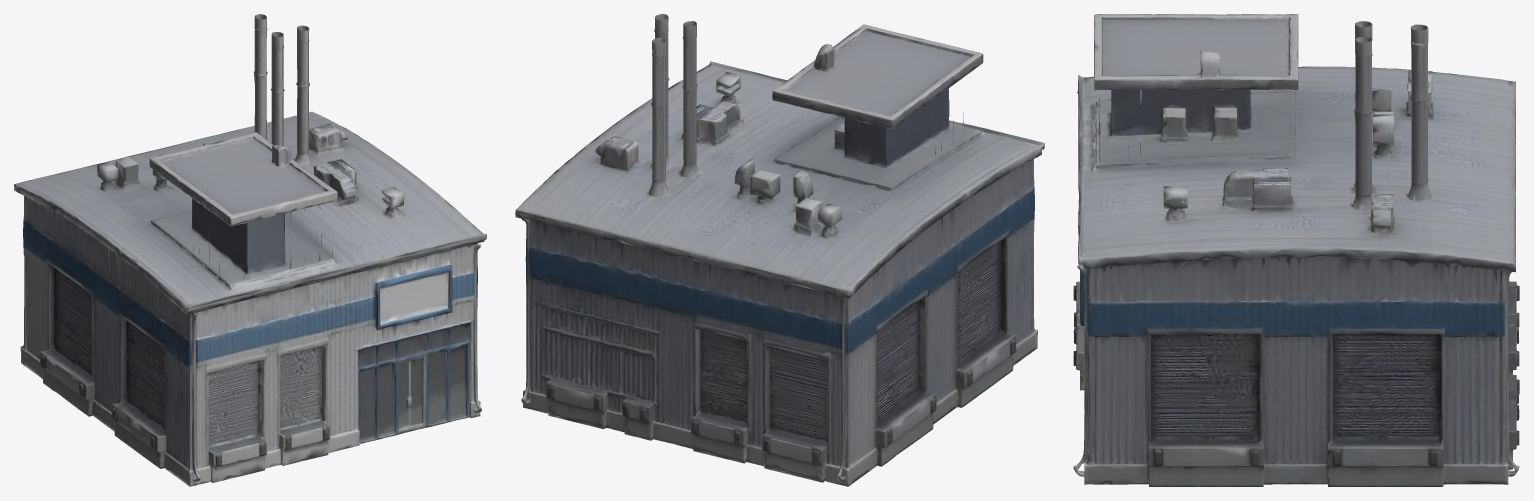
Rendered from empresa_f2.glb.
3 renders of one model, left to right at view 1: azimuth 30°, elevation 25°; view 2: azimuth 150°, elevation 25°; view 3: azimuth 270°, elevation 25°, orthographic. The views are drawn at different scales.
Visible parts, largest first — view 1: tripo_node_311bc03b-d857-42bf-81bc-aeefa238adc8; view 2: tripo_node_311bc03b-d857-42bf-81bc-aeefa238adc8; view 3: tripo_node_311bc03b-d857-42bf-81bc-aeefa238adc8.
Boxes of the visible parts, x1,y1,x2,y2 form: tripo_node_311bc03b-d857-42bf-81bc-aeefa238adc8: (14,14,486,486); tripo_node_311bc03b-d857-42bf-81bc-aeefa238adc8: (515,14,1044,486); tripo_node_311bc03b-d857-42bf-81bc-aeefa238adc8: (1073,14,1519,486).
Bounding box in the file's own units: 1 × 1 × 1.
Materials: 1 (1 with a texture image).
